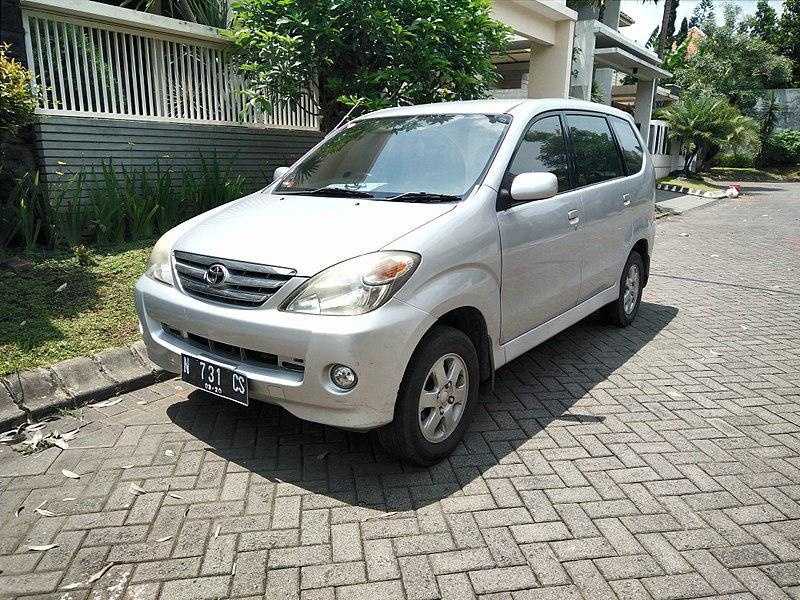plate: (177, 352, 252, 411)
